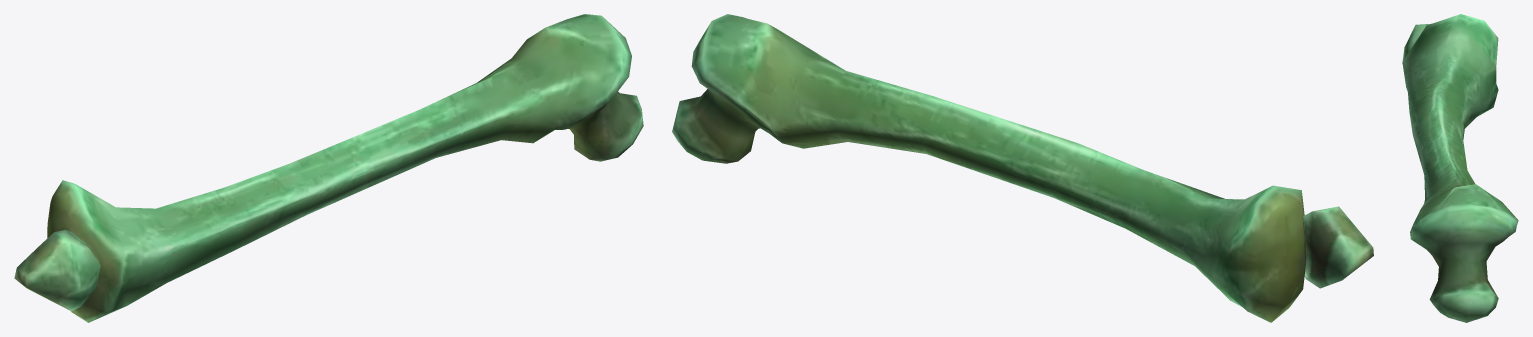
3 renders of one model, left to right at view 1: azimuth 30°, elevation 25°; view 2: azimuth 150°, elevation 25°; view 3: azimuth 270°, elevation 25°, orthographic. The views are drawn at different scales.
Visible parts, largest first — view 1: SM_U_MED_Skeleton_Human_thigh_r_LOD0; view 2: SM_U_MED_Skeleton_Human_thigh_r_LOD0; view 3: SM_U_MED_Skeleton_Human_thigh_r_LOD0.
Part boxes in pixels (box(x1,y1,x2,y2)): SM_U_MED_Skeleton_Human_thigh_r_LOD0: box(14, 14, 643, 322); SM_U_MED_Skeleton_Human_thigh_r_LOD0: box(672, 14, 1373, 322); SM_U_MED_Skeleton_Human_thigh_r_LOD0: box(1402, 14, 1518, 322).
Bounding box in the file's own units: 0.5118 × 0.1249 × 0.0949.
Materials: 1 (1 with a texture image).
